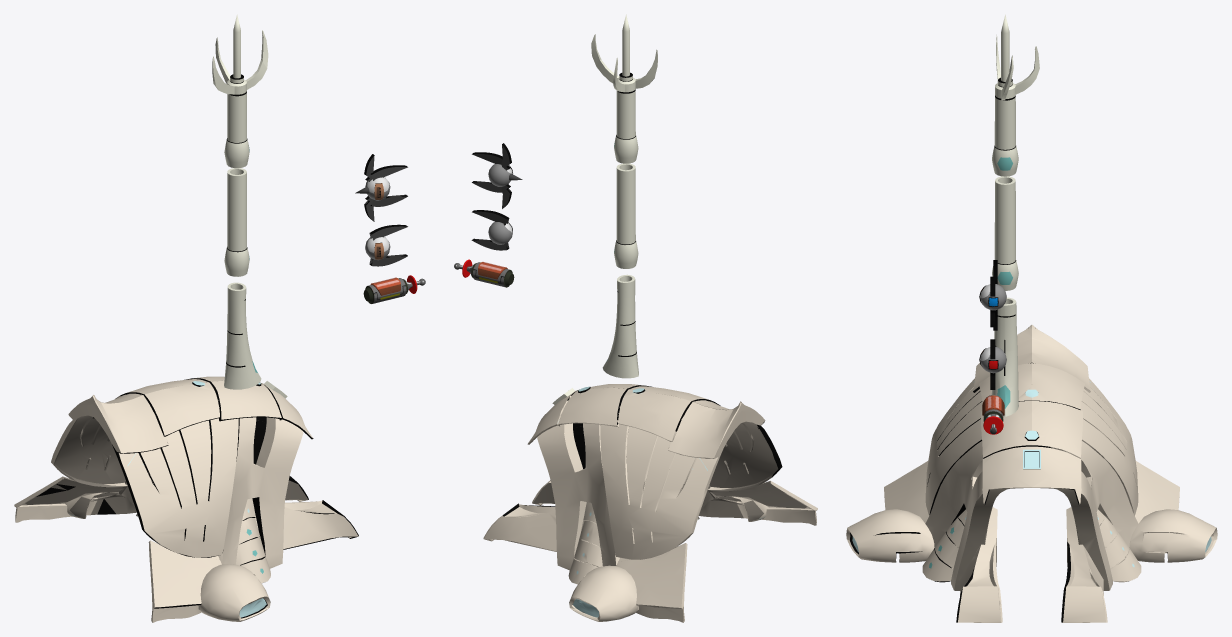
3 views of the same model, side by side, from view 1: azimuth 30°, elevation 25°; view 2: azimuth 150°, elevation 25°; view 3: azimuth 270°, elevation 25° (orthographic). The views are drawn at different scales.
Visible parts, largest first — view 1: Base, Expansion3, Expansion1, Expansion2, Turret1; view 2: Base, Expansion3, Expansion1, Expansion2, Turret1; view 3: Base, Expansion3, Expansion2, Expansion1, Turret1, Turret3, Turret2.
Boxes of the visible parts, box(x1,y1,x2,y2) form: Base: box(14, 376, 358, 622); Expansion3: box(212, 14, 268, 168); Expansion1: box(224, 282, 261, 389); Expansion2: box(224, 168, 249, 276); Turret1: box(363, 275, 425, 303); Base: box(483, 384, 817, 622); Expansion3: box(591, 14, 657, 163); Expansion1: box(602, 274, 638, 378); Expansion2: box(614, 163, 638, 268); Turret1: box(454, 259, 514, 287); Base: box(846, 325, 1217, 622); Expansion3: box(992, 14, 1039, 176); Expansion2: box(992, 176, 1018, 290); Expansion1: box(991, 297, 1018, 416); Turret1: box(982, 394, 1004, 434); Turret3: box(979, 284, 1006, 310); Turret2: box(979, 346, 1006, 373).
Size of the model in its own units: 258 by 412 by 244.
Materials: 15 (2 with a texture image).
